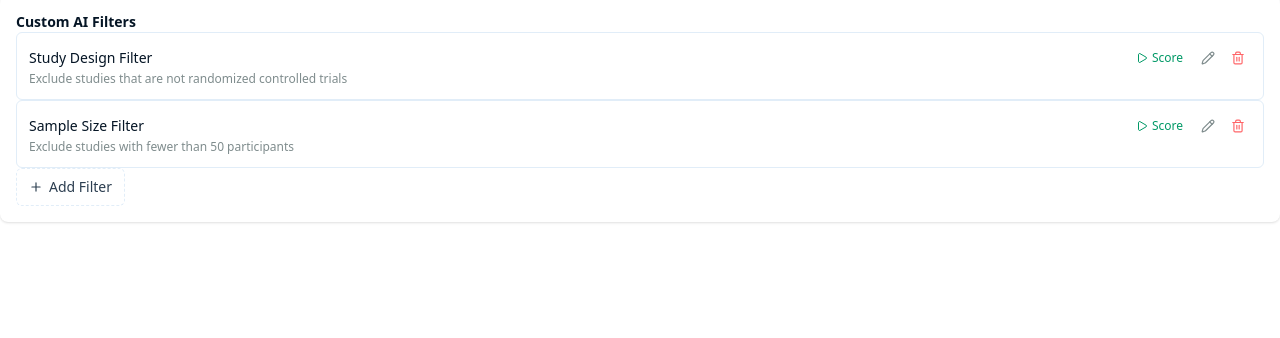
Test: CustomAiFilterEditor › opens edit form for a filter
Click the button with test id "edit-filter-f-1".
click(1208, 58)  # box [1195,45,1221,71]
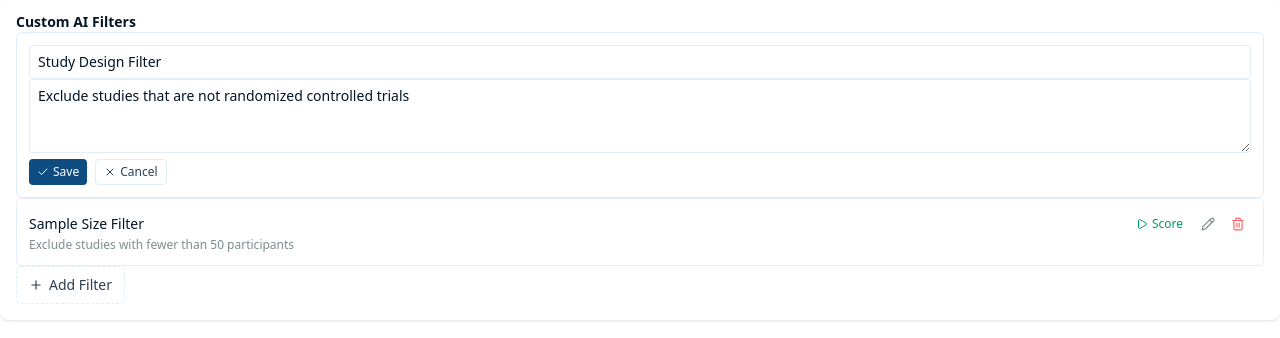
Now the element with test id "edit-filter-form-f-1" is shown, box [29,45,1251,185]
Now the field with test id "edit-filter-name-f-1" holds "Study Design Filter", box [29,45,1251,79]
Now the text box with test id "edit-filter-criterion-f-1" holds "Exclude studies that are not randomized controlled trials", box [29,79,1251,153]
